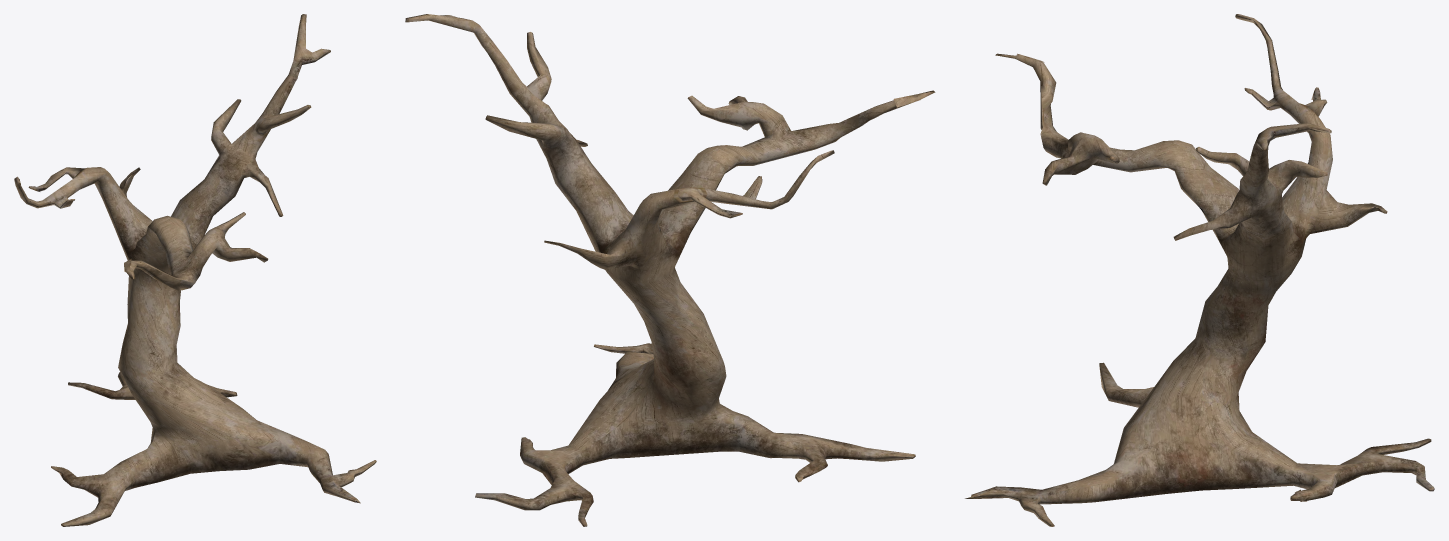
Rendered from dead_tree.glb.
3 views of the same model, side by side, from view 1: azimuth 30°, elevation 25°; view 2: azimuth 150°, elevation 25°; view 3: azimuth 270°, elevation 25° (orthographic). The views are drawn at different scales.
Parts seen in each view (by area): view 1: polySurface66Shape_aiStandardSurface1_0; view 2: polySurface66Shape_aiStandardSurface1_0; view 3: polySurface66Shape_aiStandardSurface1_0.
Part boxes in pixels (x1,y1,x2,y2): polySurface66Shape_aiStandardSurface1_0: [14, 14, 376, 526]; polySurface66Shape_aiStandardSurface1_0: [405, 14, 935, 526]; polySurface66Shape_aiStandardSurface1_0: [965, 14, 1434, 526].
Bounding box in the file's own units: 0.1181 × 0.1225 × 0.1186.
1 material, 1 textured.
